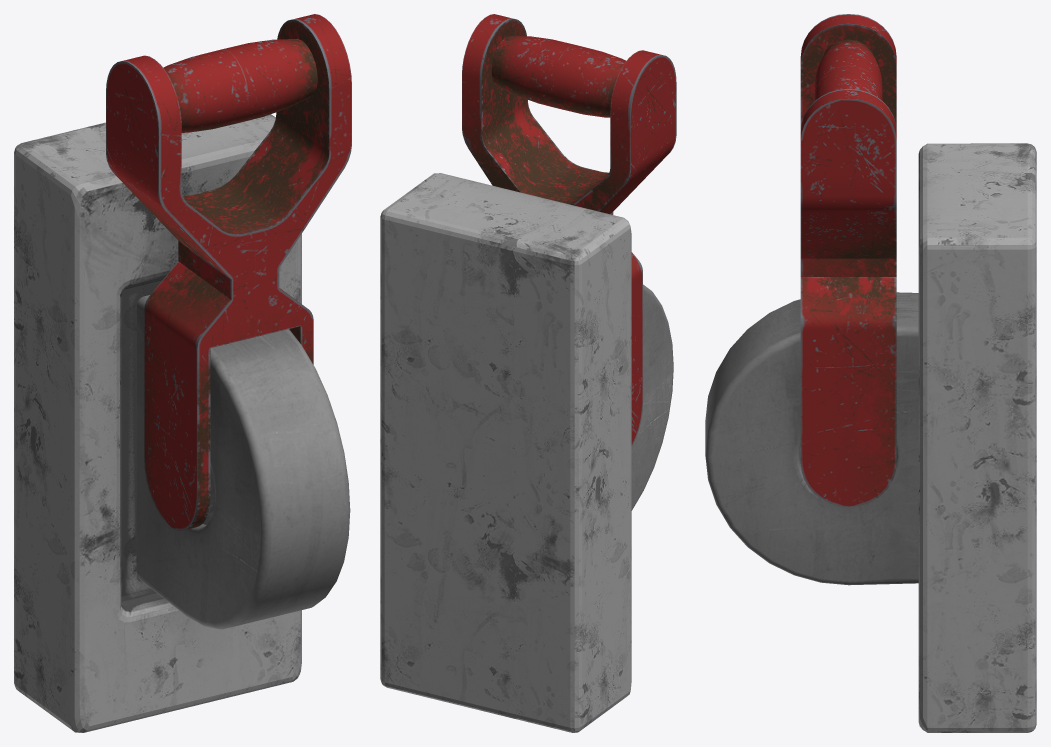
Rendered from electric_switch.glb.
3 renders of one model, left to right at view 1: azimuth 30°, elevation 25°; view 2: azimuth 150°, elevation 25°; view 3: azimuth 270°, elevation 25°, orthographic. The views are drawn at different scales.
Parts seen in each view (by area): view 1: Cube_4, Cube.001_3, Cylinder_2; view 2: Cube_4, Cube.001_3, Cylinder_2; view 3: Cube_4, Cube.001_3, Cylinder_2.
Boxes of the visible parts, left/top/right/bottom form: Cube_4: left=14, top=114, right=301, bottom=732; Cube.001_3: left=106, top=14, right=351, bottom=530; Cylinder_2: left=137, top=295, right=350, bottom=629; Cube_4: left=380, top=173, right=631, bottom=732; Cube.001_3: left=462, top=14, right=676, bottom=446; Cylinder_2: left=631, top=284, right=673, bottom=510; Cube_4: left=918, top=143, right=1036, bottom=732; Cube.001_3: left=800, top=14, right=896, bottom=506; Cylinder_2: left=705, top=292, right=918, bottom=585.
Size of the model in its own units: 3.07 by 8.9 by 4.26.
Materials: 3 (3 with a texture image).
